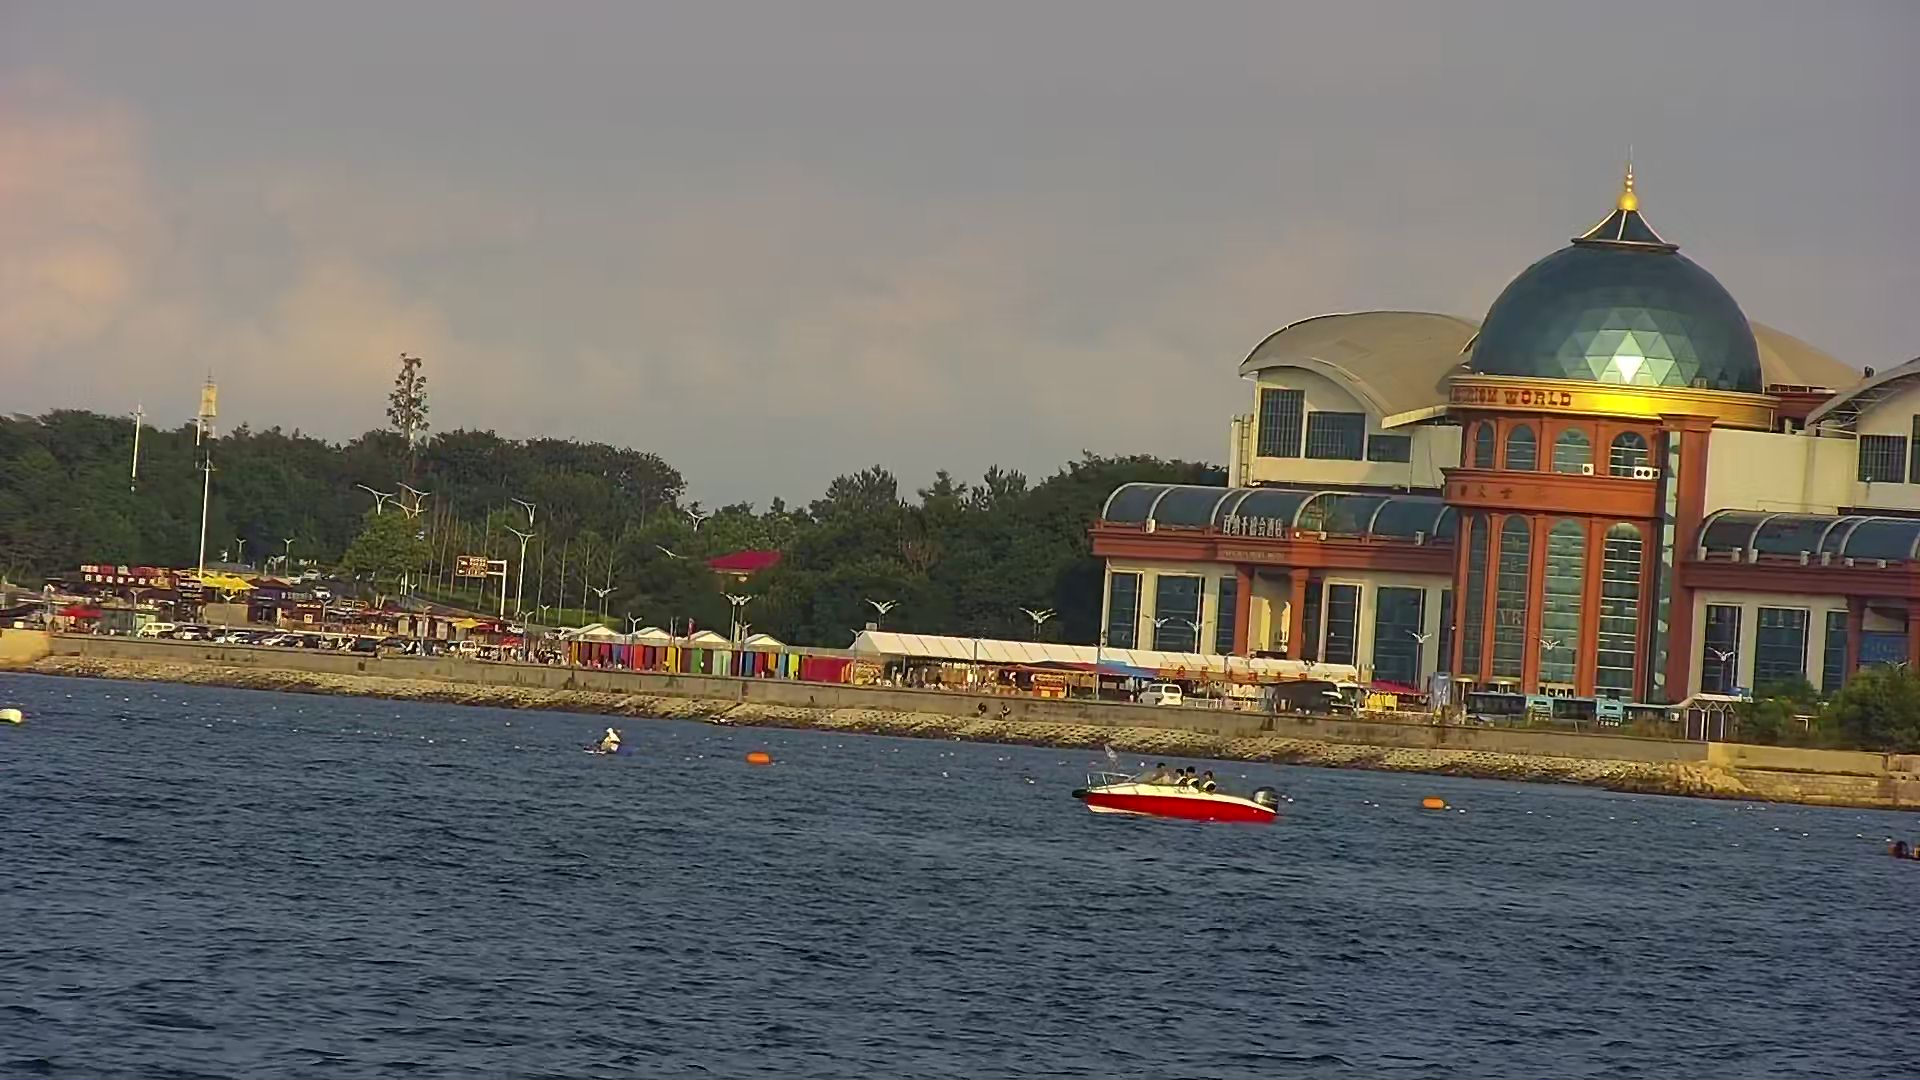ball: (1425, 790, 1455, 819)
boat: (1072, 746, 1283, 833), (742, 744, 775, 775)
rubbish: (589, 724, 628, 764), (1, 702, 36, 731)
